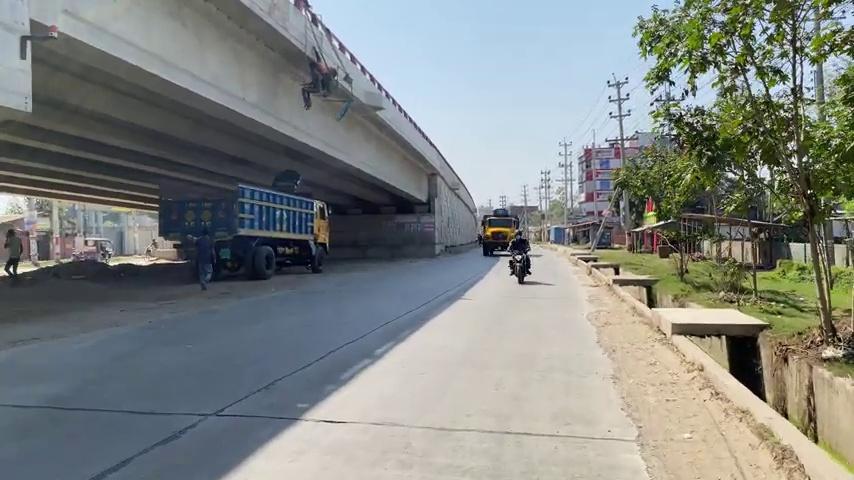Car: (565, 245, 851, 478)
Curb: (507, 245, 531, 284)
Fallen-tree: (206, 4, 437, 241)
Fence: (192, 227, 216, 291), (3, 228, 22, 276)
Rickshaw: (149, 172, 331, 280), (480, 213, 519, 257)
